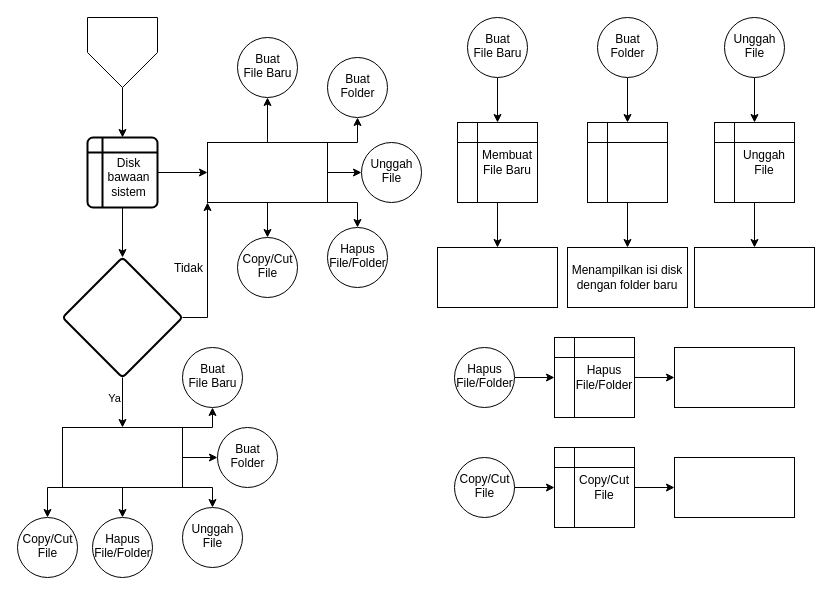
This 832x595 diagram has some shape labels left out. Here are the shapes that lost their labels. From the top down, the box of each, then its label:
(86, 16, 158, 88): File manager
(206, 142, 328, 202): Menampilkan isi disk bawaan sistem
(586, 122, 668, 202): Membuat Folder
(436, 246, 558, 308): Menampilkan isi disk dengan file baru
(694, 246, 814, 308): Menampilkan isi disk dengan unggahan file baru
(61, 256, 183, 378): Mengganti disk?
(674, 346, 794, 408): Menampilkan isi disk dengan file/folder terhapus
(62, 426, 182, 488): Menampilkan isi disk yang dipilih
(674, 456, 794, 518): Menampilkan isi disk dengan file/folder yang sudah di copy/cut
